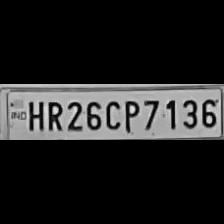1: (159, 97, 177, 131)
2: (64, 99, 82, 133)
3: (179, 96, 197, 130)
6: (198, 96, 216, 128), (84, 98, 100, 132)
7: (140, 96, 160, 132)
C: (103, 98, 121, 132)
H: (24, 98, 43, 132)
P: (121, 97, 139, 133)
R: (44, 97, 61, 132)
